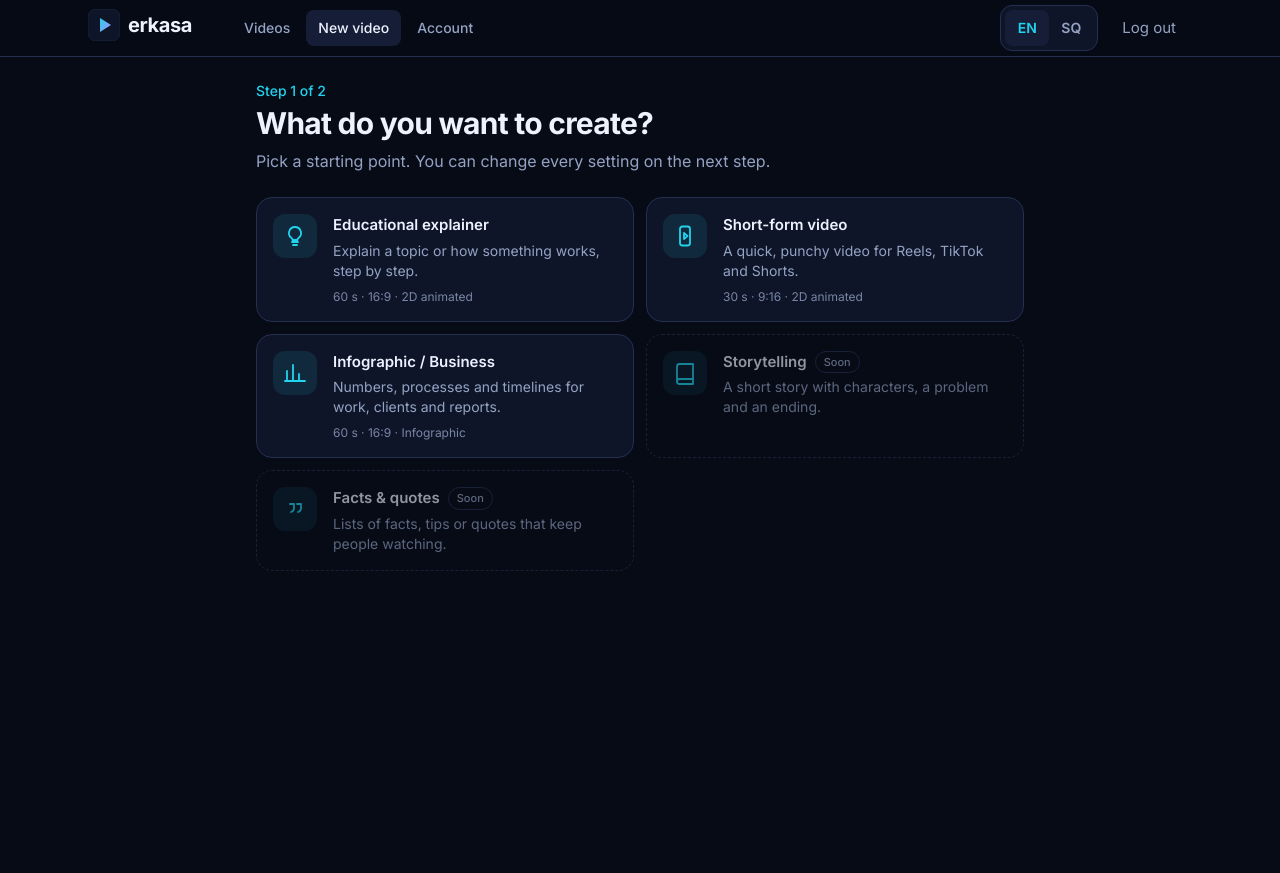
Test: new video › needs an idea
The image size is (1280, 873).
Click the button "Educational explainer" at (445, 259), box [256,197,634,322]
(page scrolled)
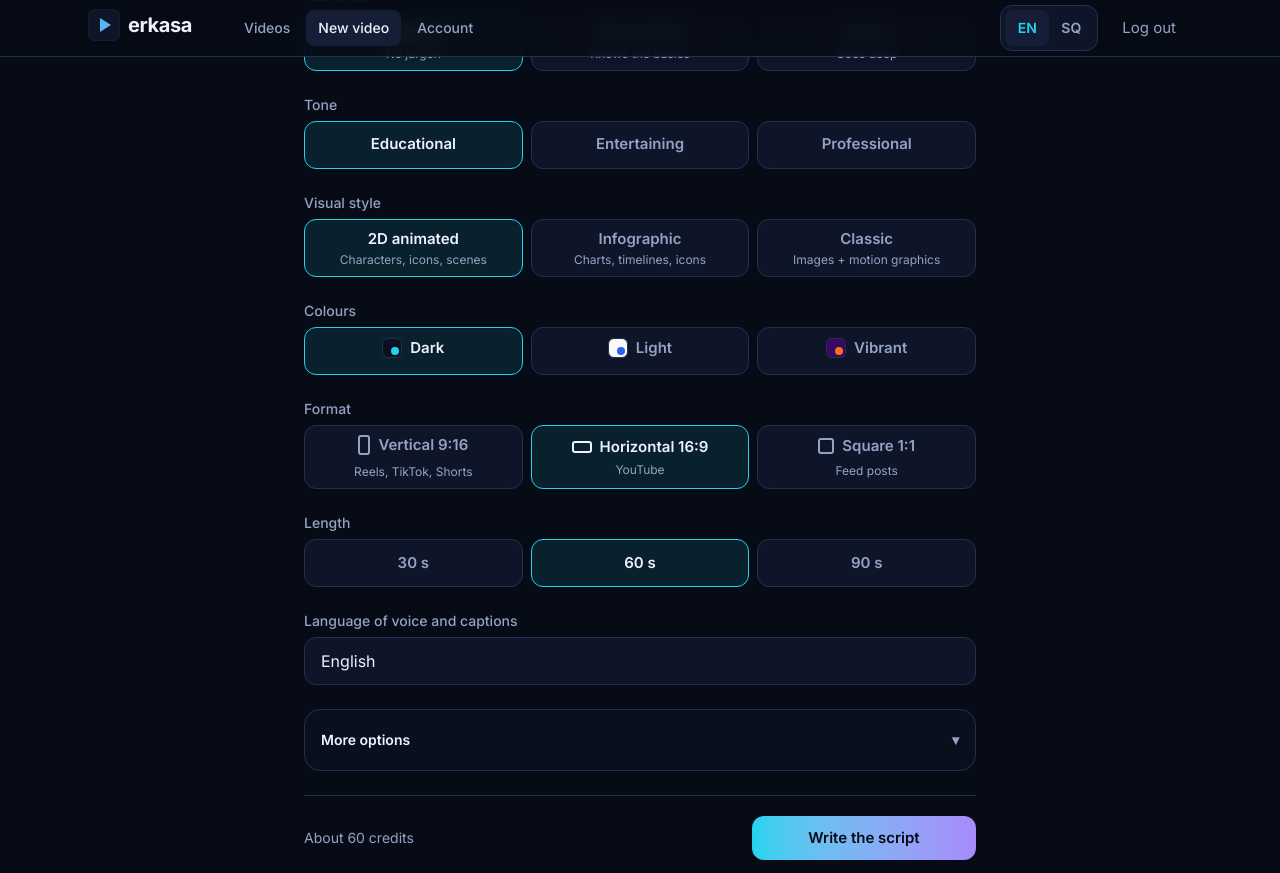
Click the button "Write the script" at (864, 838), box [752,816,976,860]
(page scrolled)
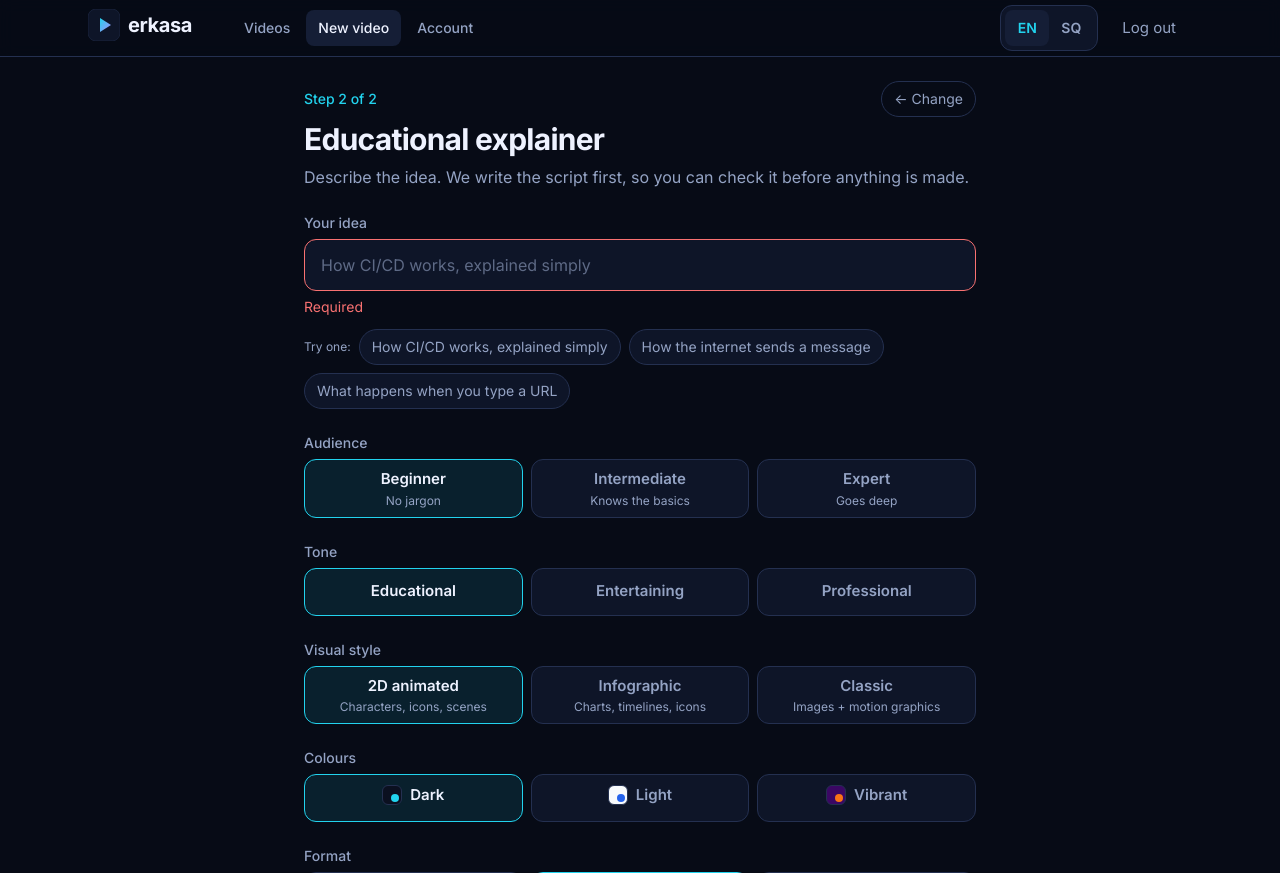
Expected: the text "Required" is shown, [304,298,363,315]
